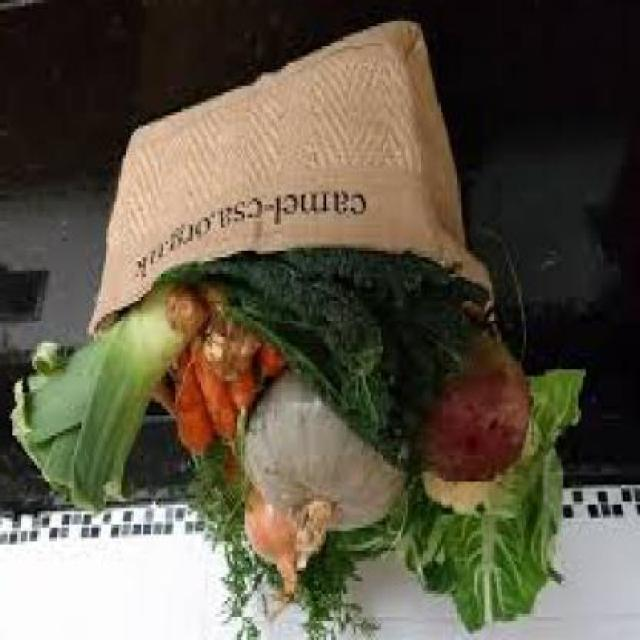BIODEGRADABLE: (183, 254, 494, 475), (412, 369, 591, 637), (16, 287, 212, 515), (247, 377, 413, 574), (226, 498, 414, 638), (205, 264, 383, 379), (423, 330, 534, 485), (247, 492, 327, 600), (195, 347, 240, 448), (196, 458, 242, 551), (178, 354, 215, 458), (207, 321, 262, 382), (168, 294, 208, 340), (232, 370, 260, 422), (262, 346, 287, 383)
